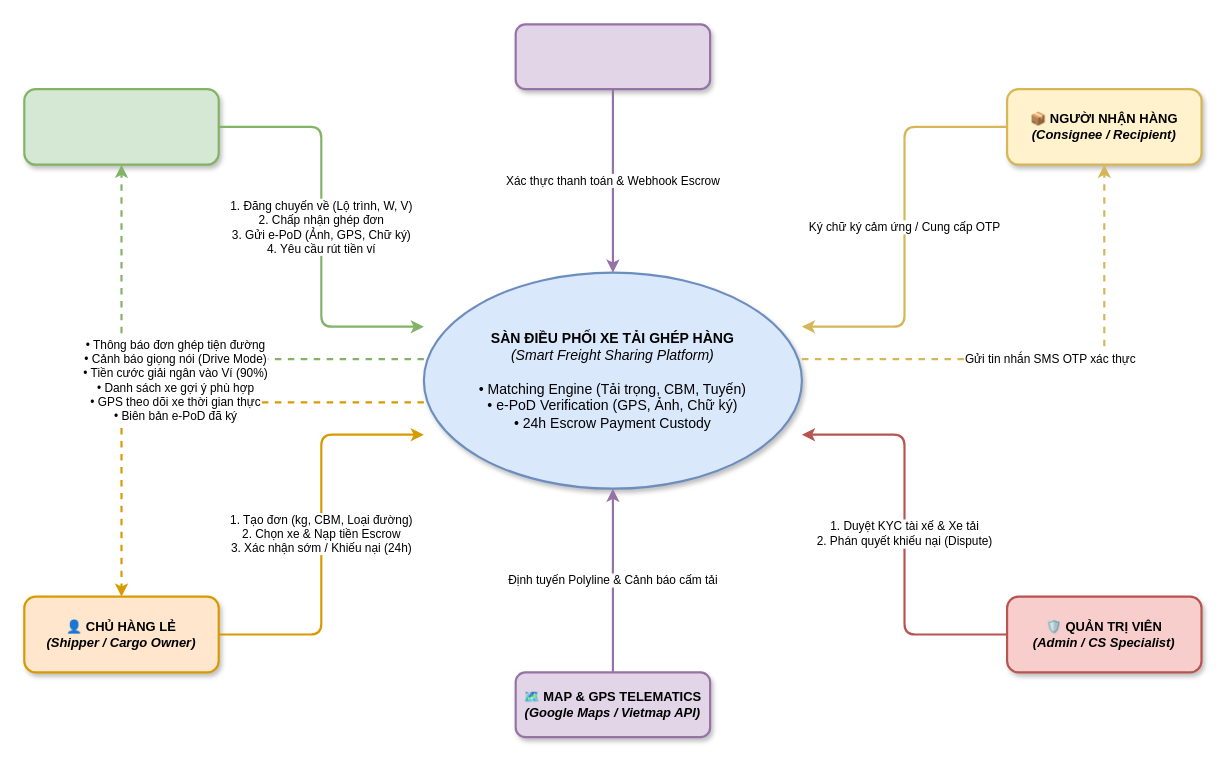
Some shapes in this 1227 by 764 pixel diagram are drawn without their labels. The centre of each missing label's shape, as x and y in pixels:
👨‍✈️ TÀI XẾ / CHỦ XE (Driver / Carrier): point 122,128
💳 CỔNG THANH TOÁN (VietQR / VNPAY / Banking): point 613,57
